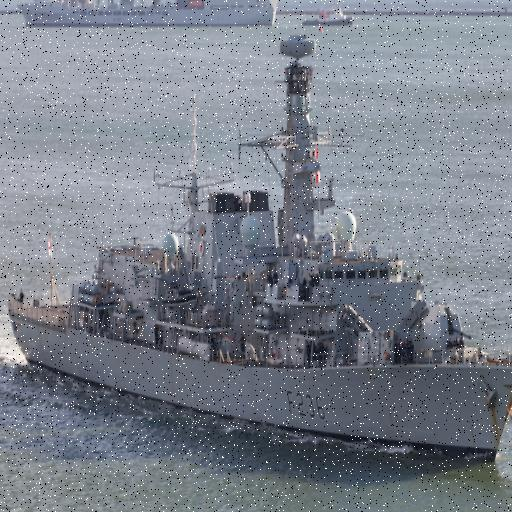Fragata: (7, 37, 512, 465)
